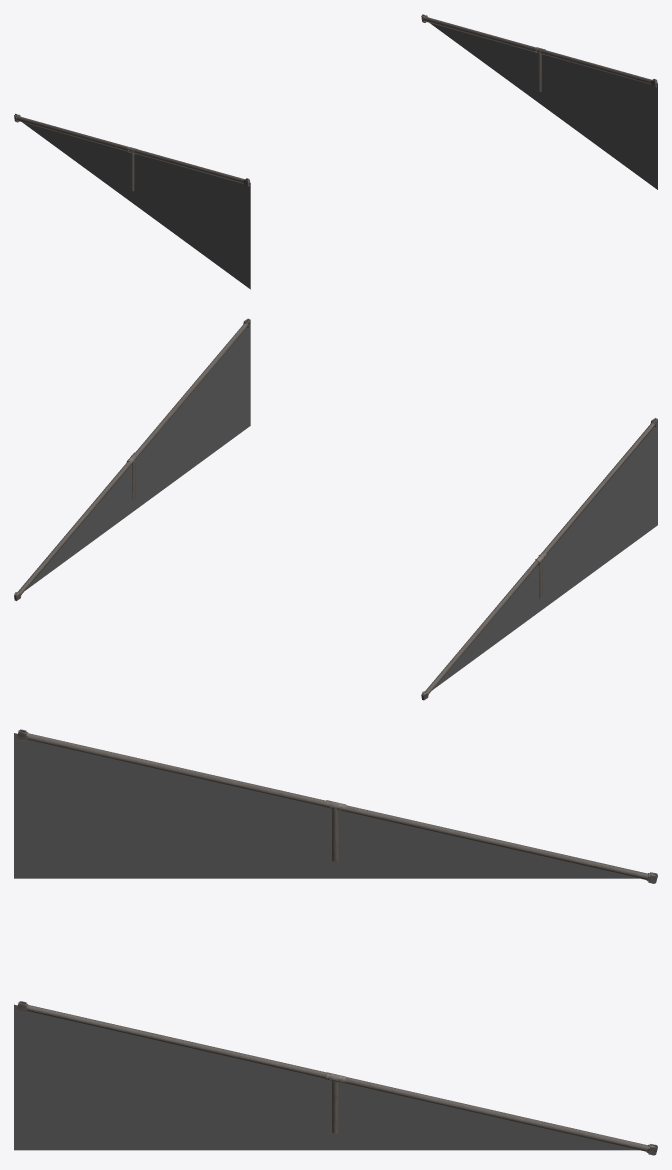
The model's file is scaffold_mid_slope_96.fbx.
3 views of the same model, one above another, from view 1: azimuth 30°, elevation 25°; view 2: azimuth 150°, elevation 25°; view 3: azimuth 270°, elevation 25° (orthographic). The views are drawn at different scales.
Parts seen in each view (by area): view 1: scaffold_mid_slope_96; view 2: scaffold_mid_slope_96; view 3: scaffold_mid_slope_96.
Part boxes in pixels (left/top/right/bottom): scaffold_mid_slope_96: left=14, top=14, right=657, bottom=289; scaffold_mid_slope_96: left=14, top=318, right=657, bottom=700; scaffold_mid_slope_96: left=14, top=729, right=657, bottom=1155.
Bounding box in the file's own units: 390 × 102 × 385.
3 materials, 2 textured.
